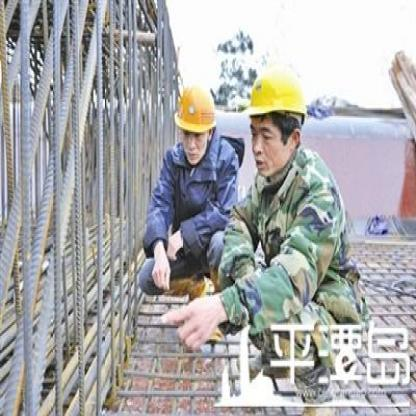helmet: (239, 51, 314, 178), (172, 75, 220, 164)
